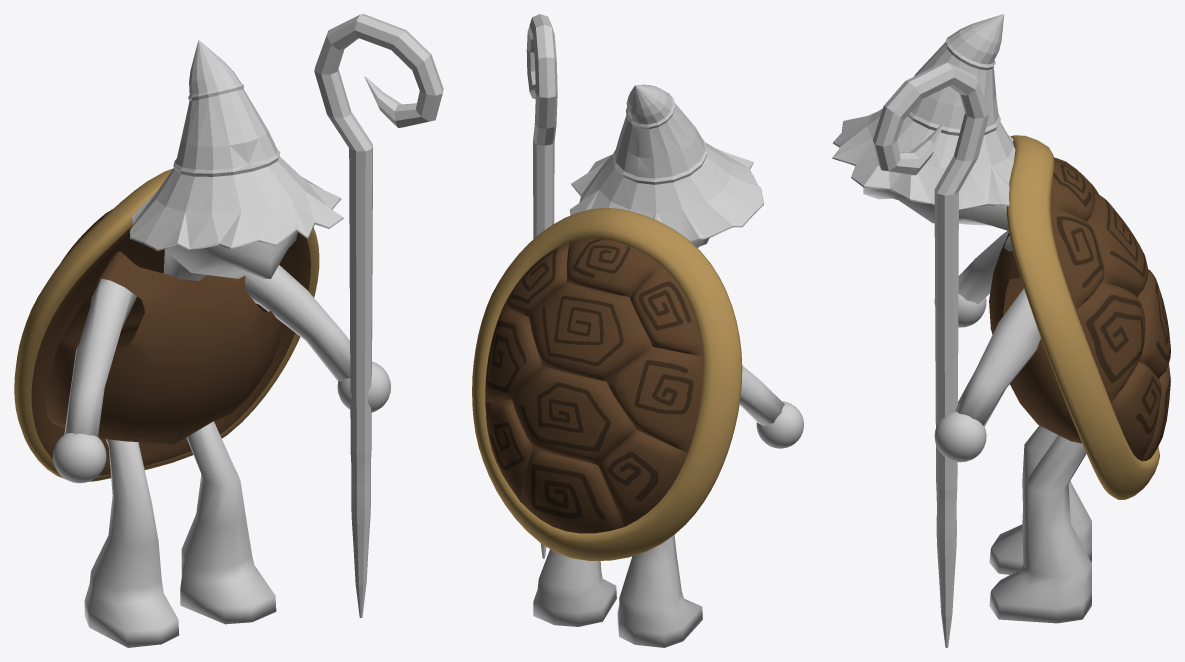
Rendered from SOUCERR.fbx.
3 renders of one model, left to right at view 1: azimuth 30°, elevation 25°; view 2: azimuth 150°, elevation 25°; view 3: azimuth 270°, elevation 25°, orthographic. The views are drawn at different scales.
Parts seen in each view (by area): view 1: Sphere, Plane, SENSI HAT, Plane.001, SHELL, Sphere.002, Cube; view 2: SHELL, SENSI HAT, Plane, Plane.001, Sphere.002; view 3: SHELL, Plane.001, Plane, SENSI HAT, Sphere.002, Sphere, Cube.
Boxes of the visible parts, x1,y1,x2,y2 form: Sphere: (45,245,281,443); Plane: (84,421,276,647); SENSI HAT: (129,40,343,251); Plane.001: (314,14,443,617); SHELL: (14,168,319,481); Sphere.002: (53,265,390,483); Cube: (163,231,297,280); SHELL: (472,208,742,560); SENSI HAT: (569,84,763,242); Plane: (533,535,702,647); Plane.001: (526,14,557,558); Sphere.002: (739,365,803,448); SHELL: (1006,135,1170,499); Plane.001: (873,62,989,647); Plane: (989,425,1091,623); SENSI HAT: (832,14,1015,210); Sphere.002: (934,230,1040,462); Sphere: (989,232,1081,443); Cube: (863,187,1008,230).
Size of the model in its own units: 48.18 by 79.95 by 42.
